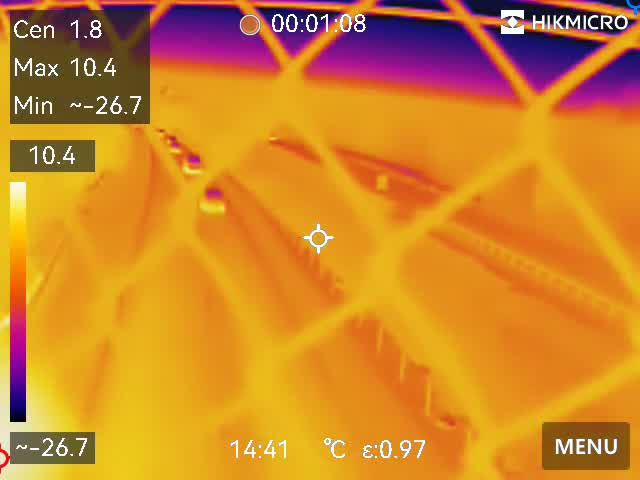vehicle: (201, 184, 235, 219), (178, 153, 204, 177), (160, 133, 179, 145)
